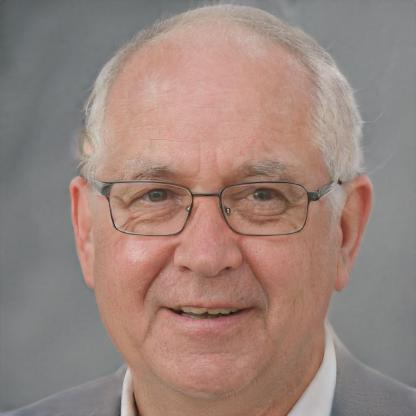glasses: (92, 172, 324, 240)
